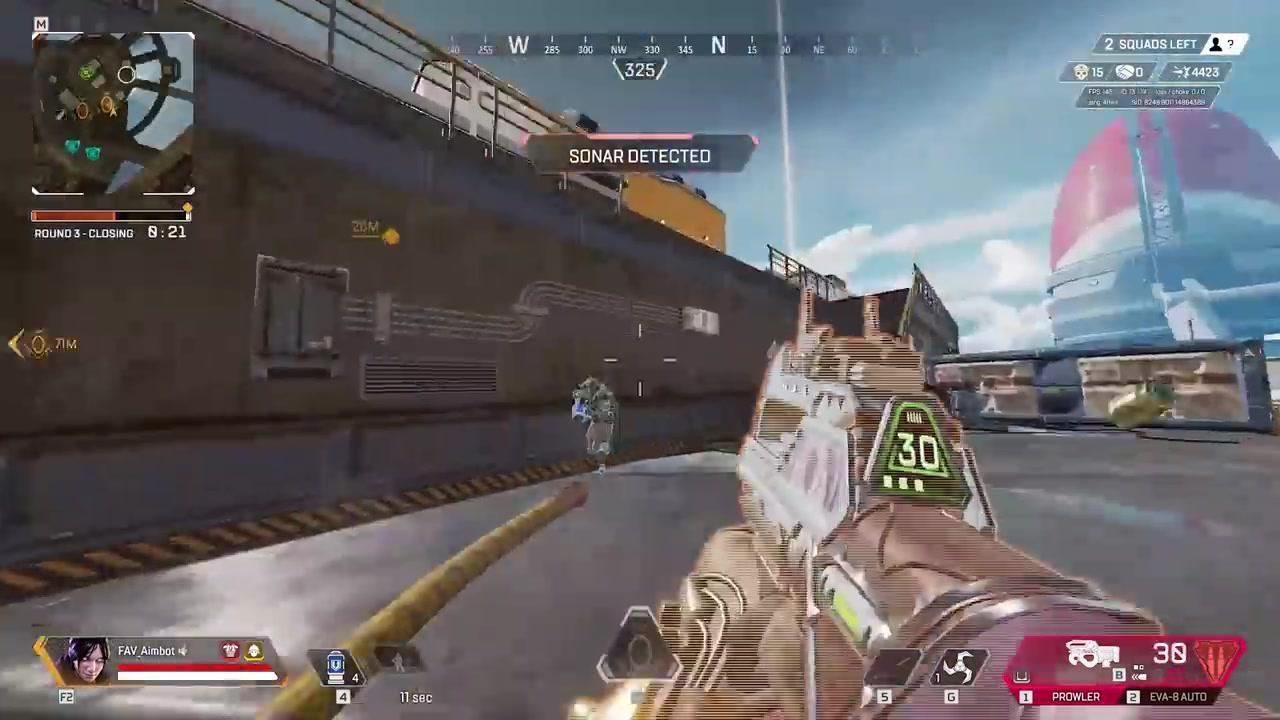avatar: (571, 372, 618, 475)
